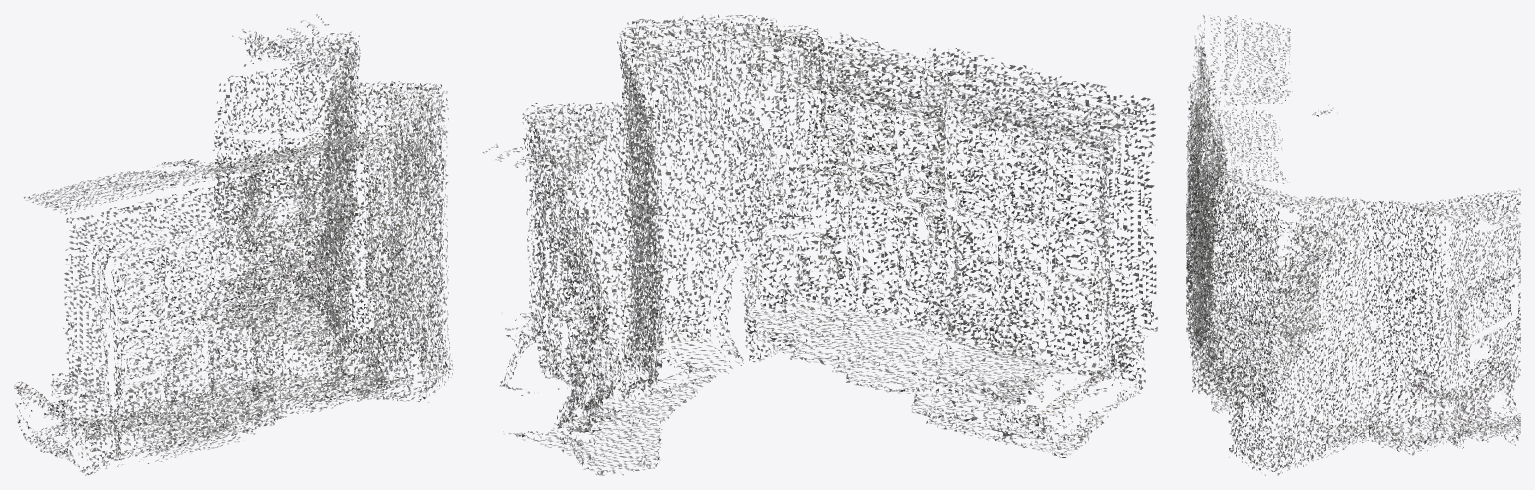
The picture shows the model from 3 angles, left to right: view 1: azimuth 30°, elevation 25°; view 2: azimuth 150°, elevation 25°; view 3: azimuth 270°, elevation 25°; orthographic projection. The views are drawn at different scales.
Bounding box in the file's own units: 7.53 × 4.94 × 5.53.
1 material, 1 textured.
